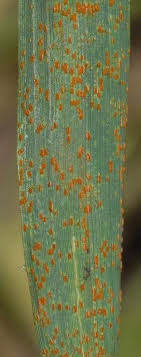Leaf Rust: (22, 37, 124, 346)
